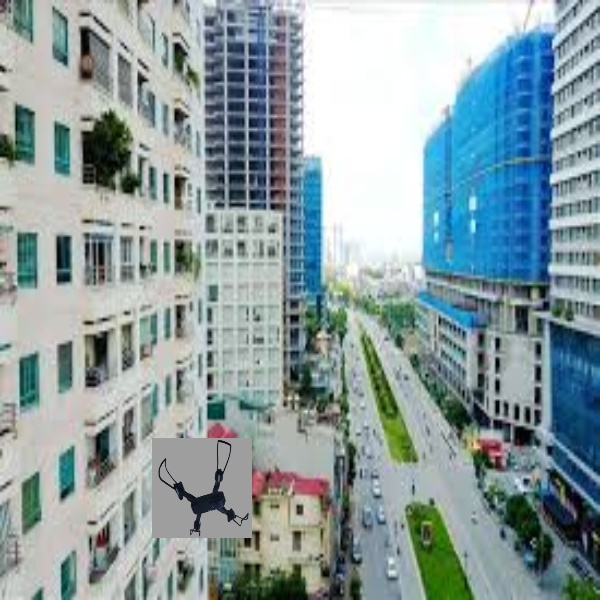drone: (156, 440, 254, 539)
